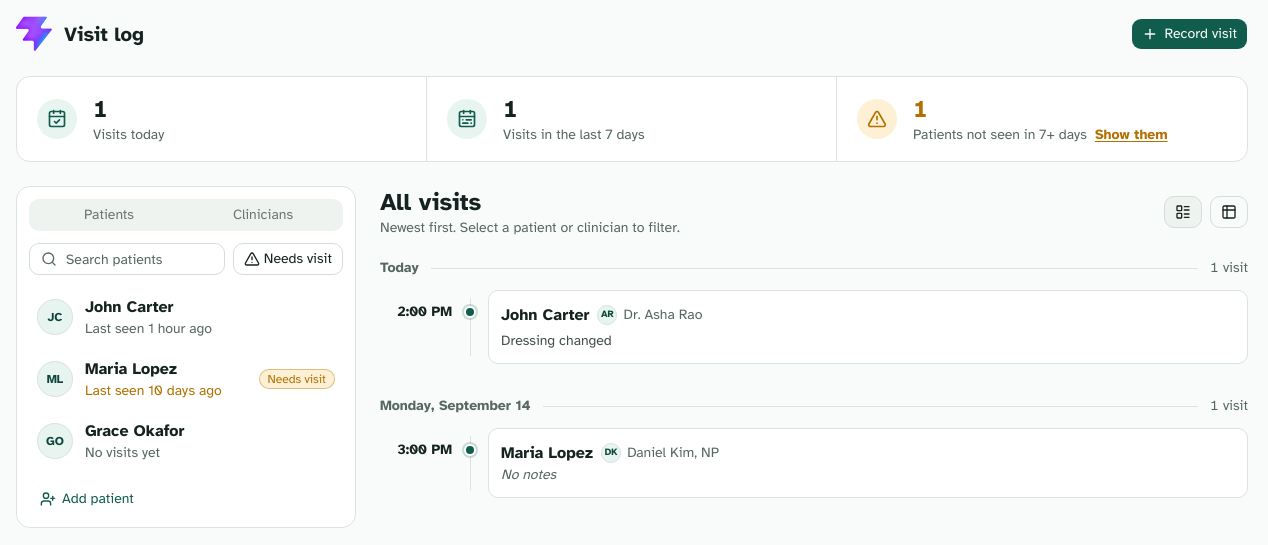
Test case: Visit log › switches between timeline and table views
Check: the element "Today" is shown, box [380,258,1248,364]
Step 1. Click the radio button named "Table view" → (1229, 212), box [1210,196,1248,228]
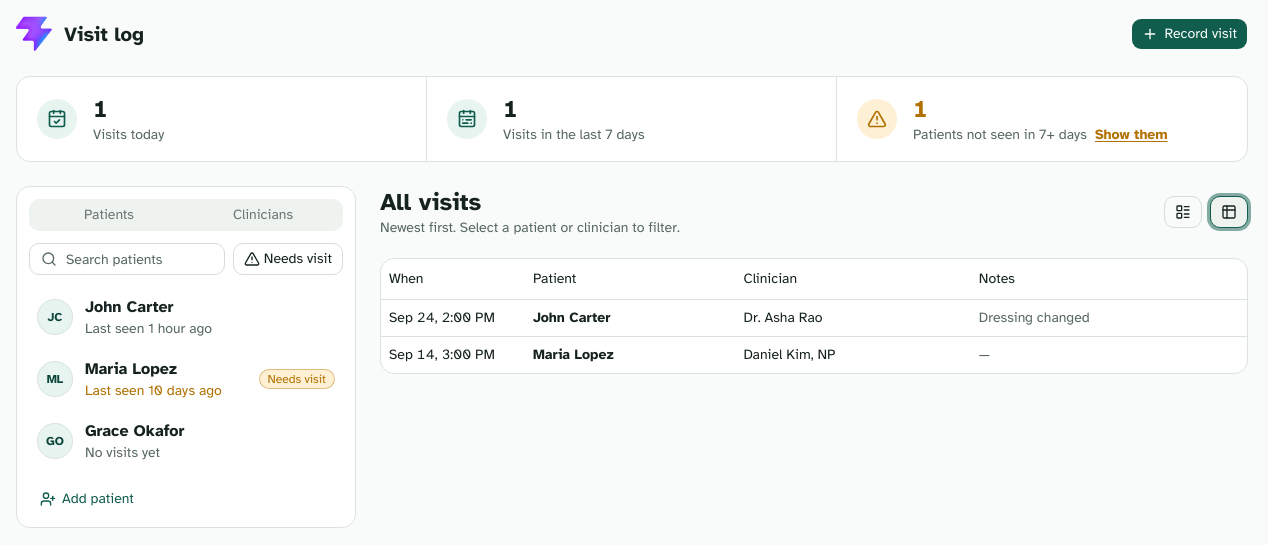
Check: the number of rows is 3, box [381,259,1247,299]; [381,299,1247,336]; [381,336,1247,372]
